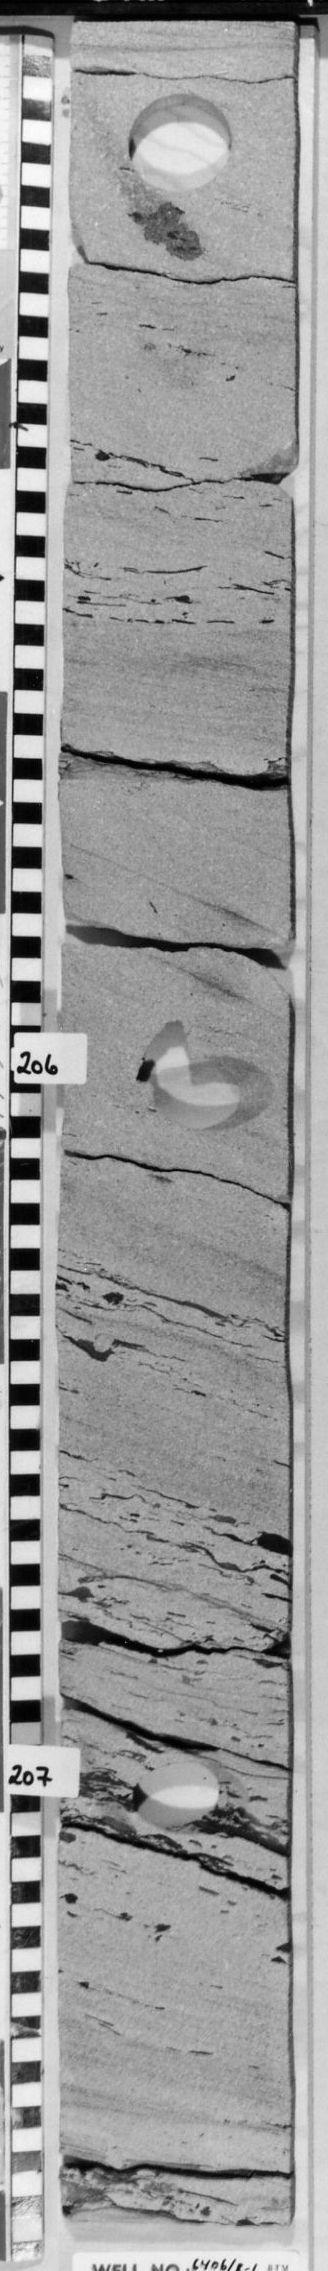hplug: (151, 1059, 283, 1137), (126, 1755, 244, 1839)
scal: (116, 90, 242, 201)
vplug: (120, 1020, 196, 1085)
